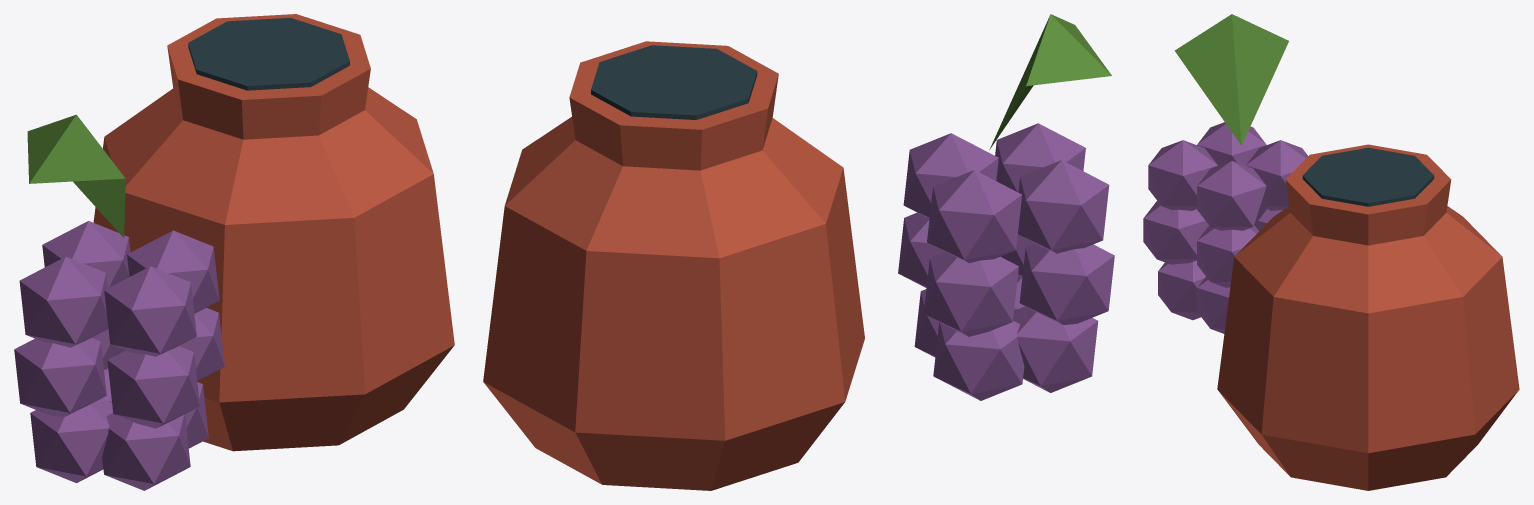
The model's file is res_wine.glb.
The picture shows the model from 3 angles, left to right: view 1: azimuth 30°, elevation 25°; view 2: azimuth 150°, elevation 25°; view 3: azimuth 270°, elevation 25°; orthographic projection. The views are drawn at different scales.
Visible parts, largest first — view 1: res_wine; view 2: res_wine; view 3: res_wine.
Boxes of the visible parts, left/top/right/bottom form: res_wine: left=14, top=14, right=454, bottom=490; res_wine: left=483, top=14, right=1114, bottom=490; res_wine: left=1143, top=14, right=1519, bottom=490.
Size of the model in its own units: 0.2338 by 0.183 by 0.1929.
